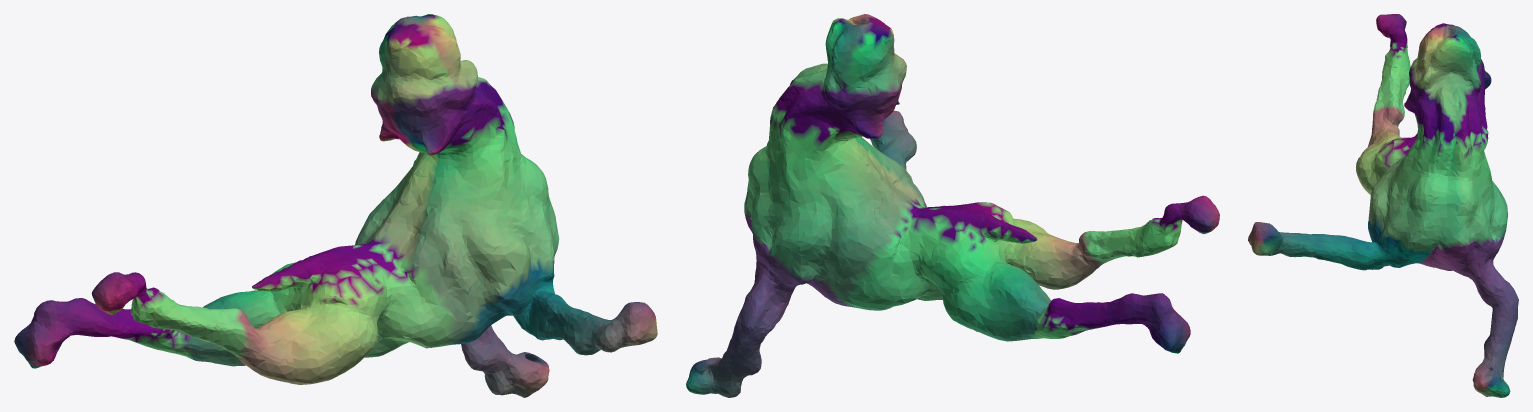
Rendered from dog1-20.off.obj.
3 renders of one model, left to right at view 1: azimuth 30°, elevation 25°; view 2: azimuth 150°, elevation 25°; view 3: azimuth 270°, elevation 25°, orthographic. The views are drawn at different scales.
Size of the model in its own units: 1.44 by 1.11 by 0.8498.
